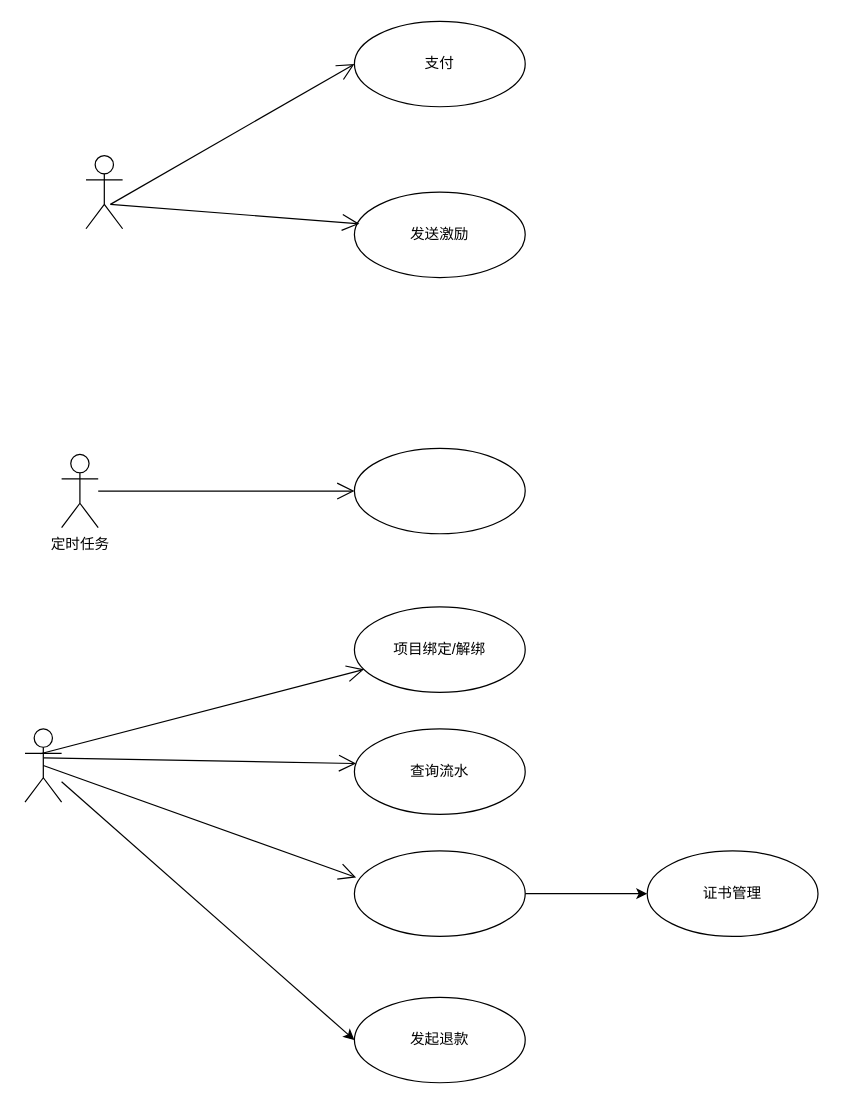
This 841x1104 diagram has some shape labels left out. Each missing label, with the centre of its shape:
"业务系统" belongs at point 104,191.
"商户管理" belongs at point 439,893.
"定时检查超时未确定的订单" belongs at point 439,490.
"管理员 业务员" belongs at point 43,765.
